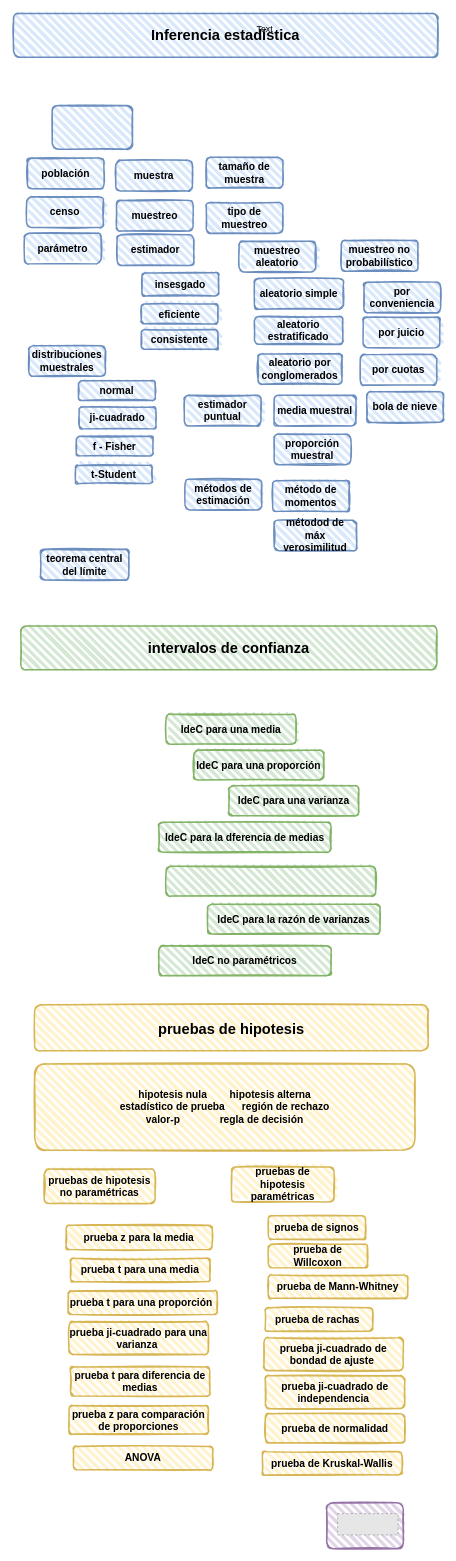
The diagram is 456 pixels wide and 1561 high, and some of its shapes have lost their labels. Grey dashed boxes stand in for pictures. Here are the shapes that lost their labels. From the top down, the centre of each, then its label:
[92,127]: conceptos básicos
[270,880]: IdeC para la dferencia de proporciones
